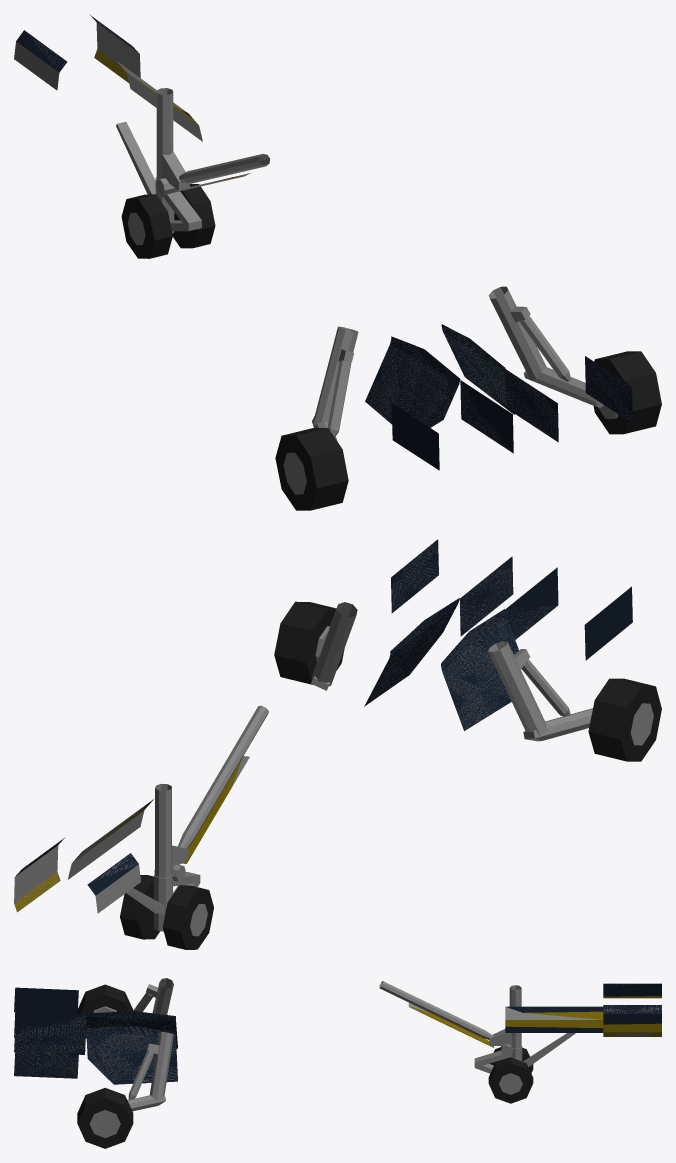
File: Gear_F18_BlueAngelsNG.obj
3 renders of one model, top to bottom at view 1: azimuth 30°, elevation 25°; view 2: azimuth 150°, elevation 25°; view 3: azimuth 270°, elevation 25°, orthographic. The views are drawn at different scales.
Parts seen in each view (by area): view 1: ShapeIndexedFaceSet.014_ShapeIndexedFaceSet.015, ShapeIndexedFaceSet.016_ShapeIndexedFaceSet.017, ShapeIndexedFaceSet.005_ShapeIndexedFaceSet.006, ShapeIndexedFaceSet.010_ShapeIndexedFaceSet.011, ShapeIndexedFaceSet.013_ShapeIndexedFaceSet.014, ShapeIndexedFaceSet.004_ShapeIndexedFaceSet.005, ShapeIndexedFaceSet.011_ShapeIndexedFaceSet.012, ShapeIndexedFaceSet.012_ShapeIndexedFaceSet.013, ShapeIndexedFaceSet.006_ShapeIndexedFaceSet.007; view 2: ShapeIndexedFaceSet.014_ShapeIndexedFaceSet.015, ShapeIndexedFaceSet.016_ShapeIndexedFaceSet.017, ShapeIndexedFaceSet.011_ShapeIndexedFaceSet.012, ShapeIndexedFaceSet.010_ShapeIndexedFaceSet.011, ShapeIndexedFaceSet.005_ShapeIndexedFaceSet.006, ShapeIndexedFaceSet.004_ShapeIndexedFaceSet.005, ShapeIndexedFaceSet.012_ShapeIndexedFaceSet.013, ShapeIndexedFaceSet.006_ShapeIndexedFaceSet.007, ShapeIndexedFaceSet.013_ShapeIndexedFaceSet.014, ShapeIndexedFaceSet.008_ShapeIndexedFaceSet.009, ShapeIndexedFaceSet.015_ShapeIndexedFaceSet.016; view 3: ShapeIndexedFaceSet.014_ShapeIndexedFaceSet.015, ShapeIndexedFaceSet.016_ShapeIndexedFaceSet.017, ShapeIndexedFaceSet.013_ShapeIndexedFaceSet.014, ShapeIndexedFaceSet.005_ShapeIndexedFaceSet.006, ShapeIndexedFaceSet.015_ShapeIndexedFaceSet.016, ShapeIndexedFaceSet.012_ShapeIndexedFaceSet.013, ShapeIndexedFaceSet.004_ShapeIndexedFaceSet.005, ShapeIndexedFaceSet.010_ShapeIndexedFaceSet.011, ShapeIndexedFaceSet.006_ShapeIndexedFaceSet.007, ShapeIndexedFaceSet.011_ShapeIndexedFaceSet.012, ShapeIndexedFaceSet.008_ShapeIndexedFaceSet.009.
Part boxes in pixels (x1=…): ShapeIndexedFaceSet.014_ShapeIndexedFaceSet.015: x1=16, y1=14, x2=632, y2=470; ShapeIndexedFaceSet.016_ShapeIndexedFaceSet.017: x1=14, y1=16, x2=632, y2=449; ShapeIndexedFaceSet.005_ShapeIndexedFaceSet.006: x1=116, y1=88, x2=201, y2=245; ShapeIndexedFaceSet.010_ShapeIndexedFaceSet.011: x1=275, y1=428, x2=348, y2=510; ShapeIndexedFaceSet.013_ShapeIndexedFaceSet.014: x1=488, y1=286, x2=618, y2=418; ShapeIndexedFaceSet.004_ShapeIndexedFaceSet.005: x1=121, y1=184, x2=215, y2=258; ShapeIndexedFaceSet.011_ShapeIndexedFaceSet.012: x1=283, y1=326, x2=358, y2=494; ShapeIndexedFaceSet.012_ShapeIndexedFaceSet.013: x1=593, y1=351, x2=661, y2=434; ShapeIndexedFaceSet.006_ShapeIndexedFaceSet.007: x1=179, y1=154, x2=269, y2=183; ShapeIndexedFaceSet.014_ShapeIndexedFaceSet.015: x1=16, y1=539, x2=632, y2=895; ShapeIndexedFaceSet.016_ShapeIndexedFaceSet.017: x1=14, y1=542, x2=556, y2=913; ShapeIndexedFaceSet.011_ShapeIndexedFaceSet.012: x1=488, y1=641, x2=653, y2=745; ShapeIndexedFaceSet.010_ShapeIndexedFaceSet.011: x1=588, y1=678, x2=661, y2=761; ShapeIndexedFaceSet.005_ShapeIndexedFaceSet.006: x1=126, y1=783, x2=207, y2=936; ShapeIndexedFaceSet.004_ShapeIndexedFaceSet.005: x1=120, y1=875, x2=213, y2=949; ShapeIndexedFaceSet.012_ShapeIndexedFaceSet.013: x1=274, y1=601, x2=344, y2=684; ShapeIndexedFaceSet.006_ShapeIndexedFaceSet.007: x1=178, y1=705, x2=268, y2=848; ShapeIndexedFaceSet.013_ShapeIndexedFaceSet.014: x1=311, y1=602, x2=357, y2=690; ShapeIndexedFaceSet.008_ShapeIndexedFaceSet.009: x1=181, y1=759, x2=241, y2=863; ShapeIndexedFaceSet.015_ShapeIndexedFaceSet.016: x1=14, y1=805, x2=148, y2=912; ShapeIndexedFaceSet.014_ShapeIndexedFaceSet.015: x1=14, y1=983, x2=661, y2=1084; ShapeIndexedFaceSet.016_ShapeIndexedFaceSet.017: x1=14, y1=983, x2=661, y2=1083; ShapeIndexedFaceSet.013_ShapeIndexedFaceSet.014: x1=89, y1=1032, x2=173, y2=1138; ShapeIndexedFaceSet.005_ShapeIndexedFaceSet.006: x1=474, y1=985, x2=575, y2=1094; ShapeIndexedFaceSet.015_ShapeIndexedFaceSet.016: x1=505, y1=996, x2=661, y2=1036; ShapeIndexedFaceSet.012_ShapeIndexedFaceSet.013: x1=77, y1=1087, x2=133, y2=1148; ShapeIndexedFaceSet.004_ShapeIndexedFaceSet.005: x1=488, y1=1047, x2=533, y2=1103; ShapeIndexedFaceSet.010_ShapeIndexedFaceSet.011: x1=77, y1=984, x2=133, y2=1038; ShapeIndexedFaceSet.006_ShapeIndexedFaceSet.007: x1=379, y1=981, x2=493, y2=1039; ShapeIndexedFaceSet.011_ShapeIndexedFaceSet.012: x1=93, y1=978, x2=173, y2=1014; ShapeIndexedFaceSet.008_ShapeIndexedFaceSet.009: x1=410, y1=1006, x2=493, y2=1047.
Size of the model in its own units: 37 by 16.98 by 88.57.
